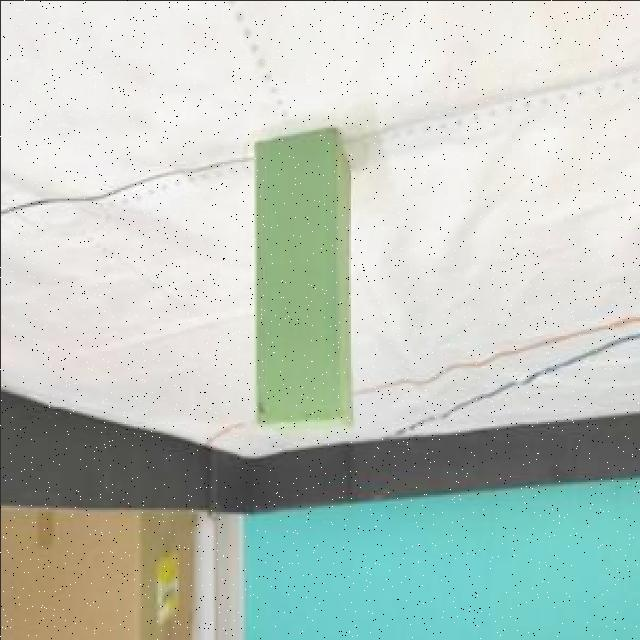greenbox: (253, 126, 350, 430)
